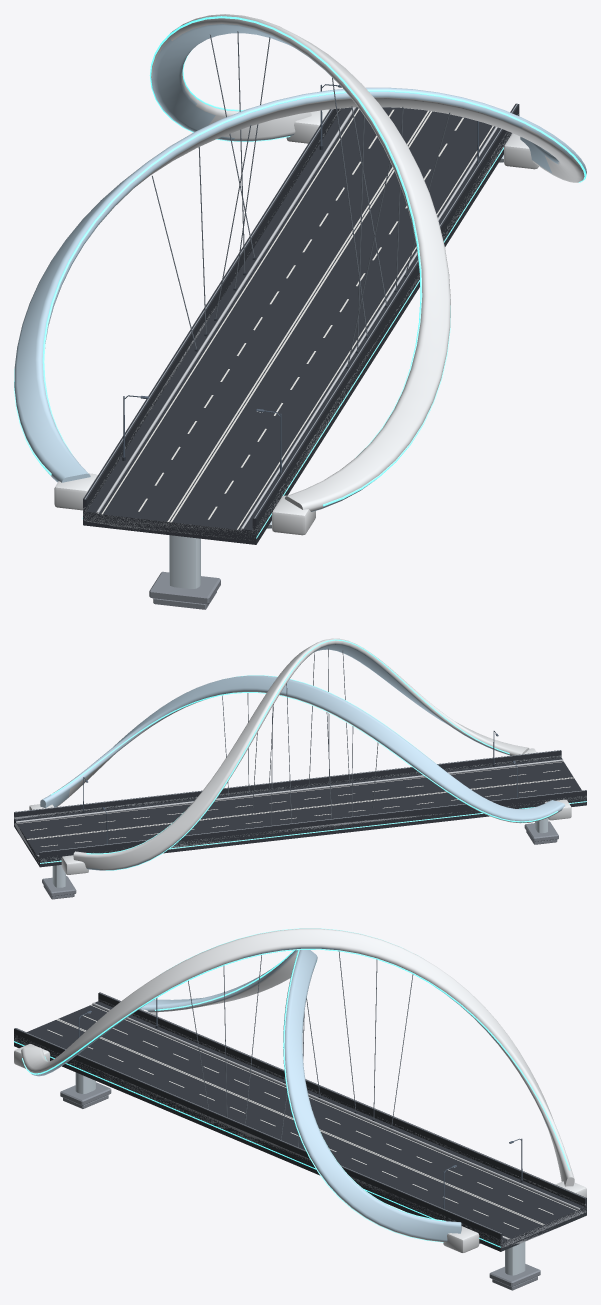
Rendered from ponte_diagonal_arco_avenida.glb.
3 renders of one model, top to bottom at view 1: azimuth 30°, elevation 25°; view 2: azimuth 150°, elevation 25°; view 3: azimuth 270°, elevation 25°, orthographic. The views are drawn at different scales.
Visible parts, largest first — view 1: colisao_tabuleiro, ponte_diagonal_arco_avenida; view 2: colisao_tabuleiro, ponte_diagonal_arco_avenida; view 3: colisao_tabuleiro, ponte_diagonal_arco_avenida.
Boxes of the visible parts, left/top/right/bottom form: colisao_tabuleiro: left=83, top=103, right=519, bottom=544; ponte_diagonal_arco_avenida: left=14, top=14, right=586, bottom=609; colisao_tabuleiro: left=14, top=750, right=586, bottom=867; ponte_diagonal_arco_avenida: left=14, top=638, right=586, bottom=899; colisao_tabuleiro: left=14, top=992, right=586, bottom=1251; ponte_diagonal_arco_avenida: left=14, top=928, right=586, bottom=1290.
Size of the model in its own units: 70.64 by 35.24 by 70.64.
3 materials, 1 textured.
